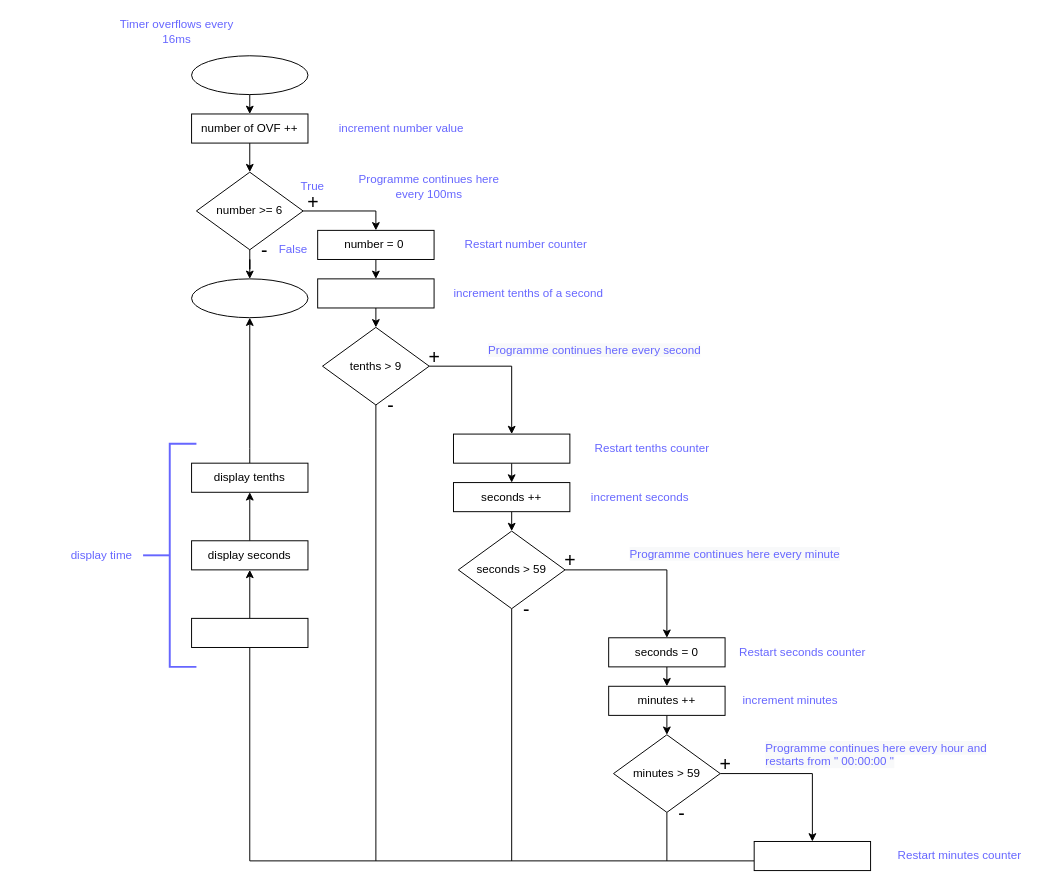
Image size: 1049x888. Some labels were removed from this diagram. Here are the shapes that lost their labels. From the top down, the centre of each, then its label:
point 249,75: Timer 2 OVF
point 249,298: end
point 375,293: tenths ++
point 511,448: tenths = 0
point 249,632: display minutes
point 812,856: minutes = 0
